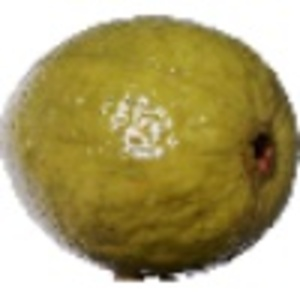goiaba: (4, 13, 296, 274)
